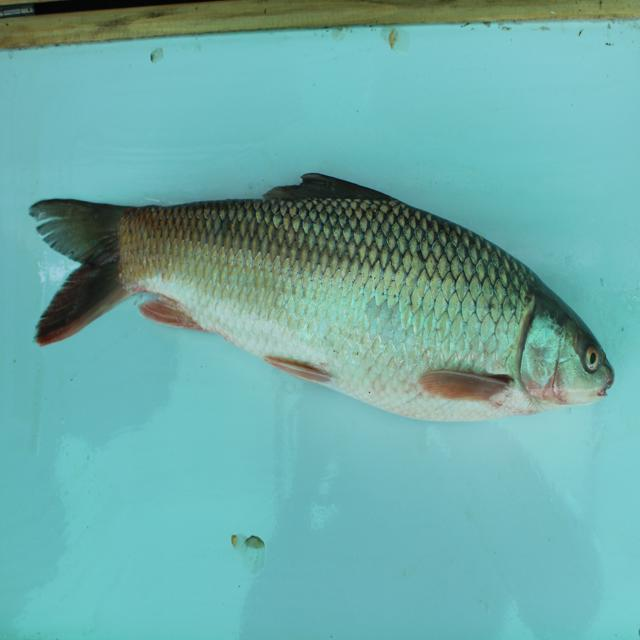Mori: (29, 175, 619, 446)
